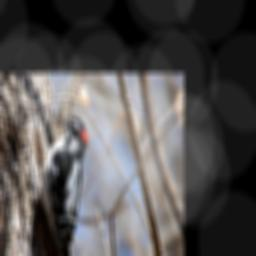Woodpecker: (39, 112, 91, 256)
